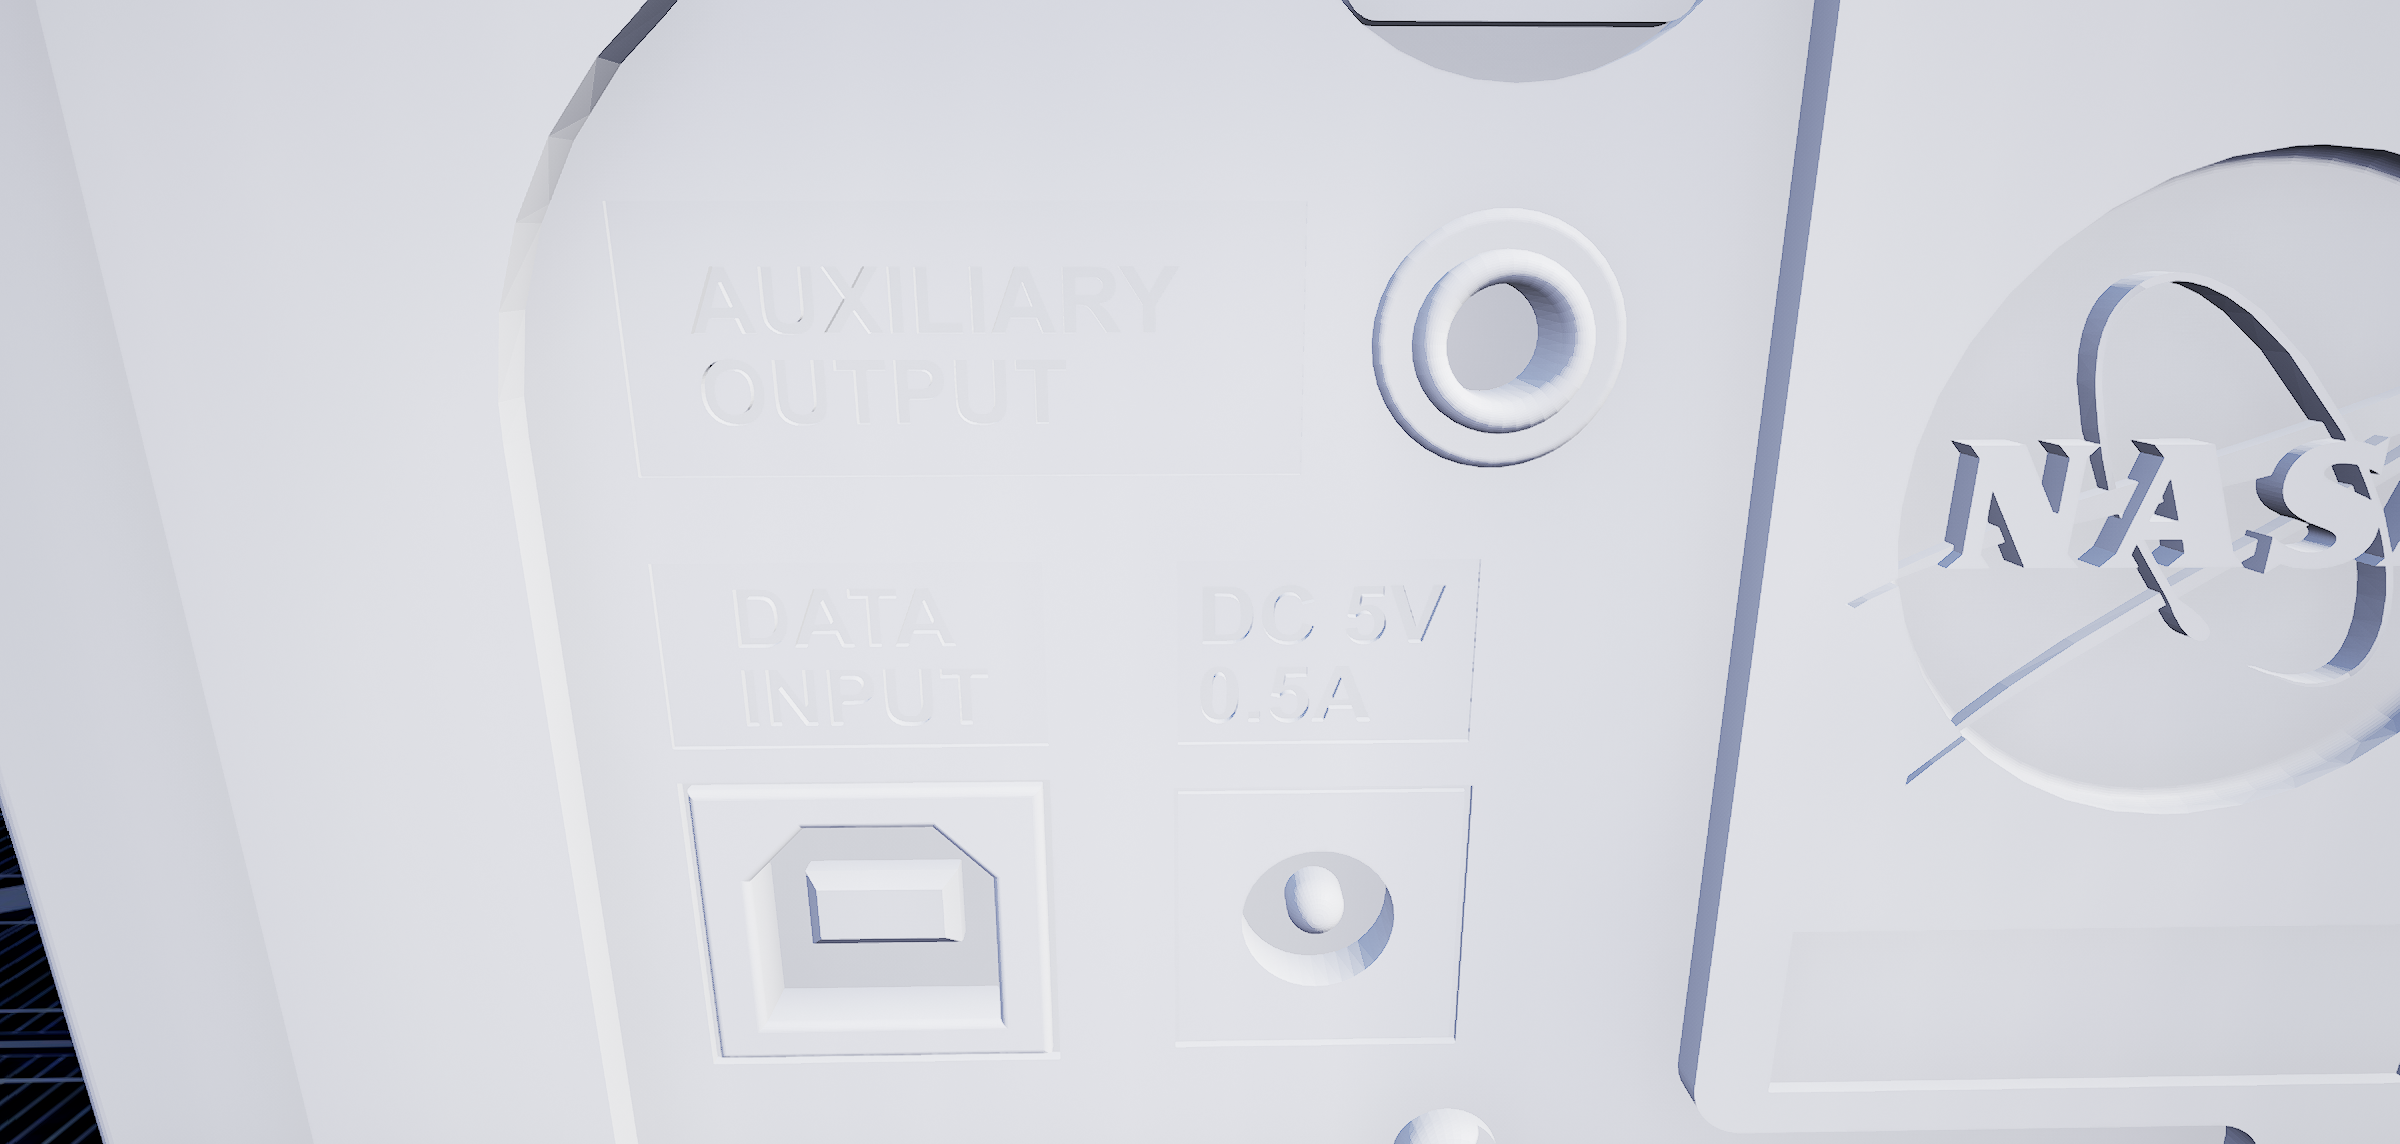aux: (1345, 194, 1645, 485)
dc: (1228, 829, 1413, 1017)
usb: (721, 815, 1015, 1038)
